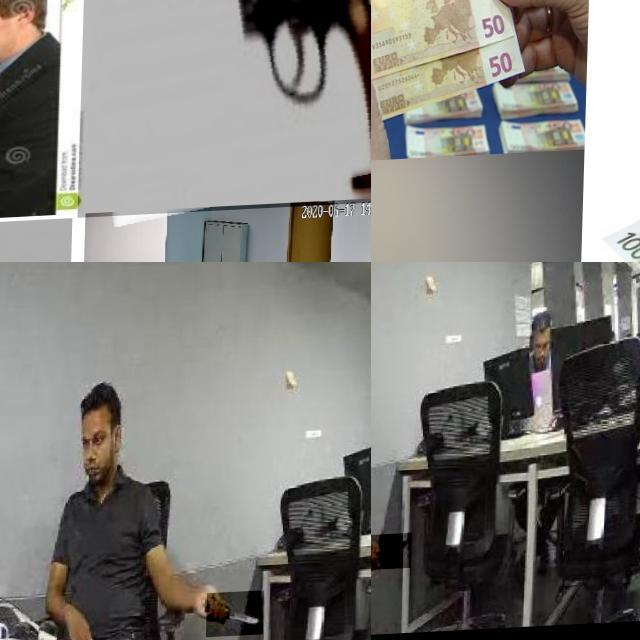-: (209, 594, 267, 640), (371, 537, 415, 574)
gun-knife-thesis - v11 Yolov5 augmented: (79, 0, 371, 221), (0, 60, 38, 135)
